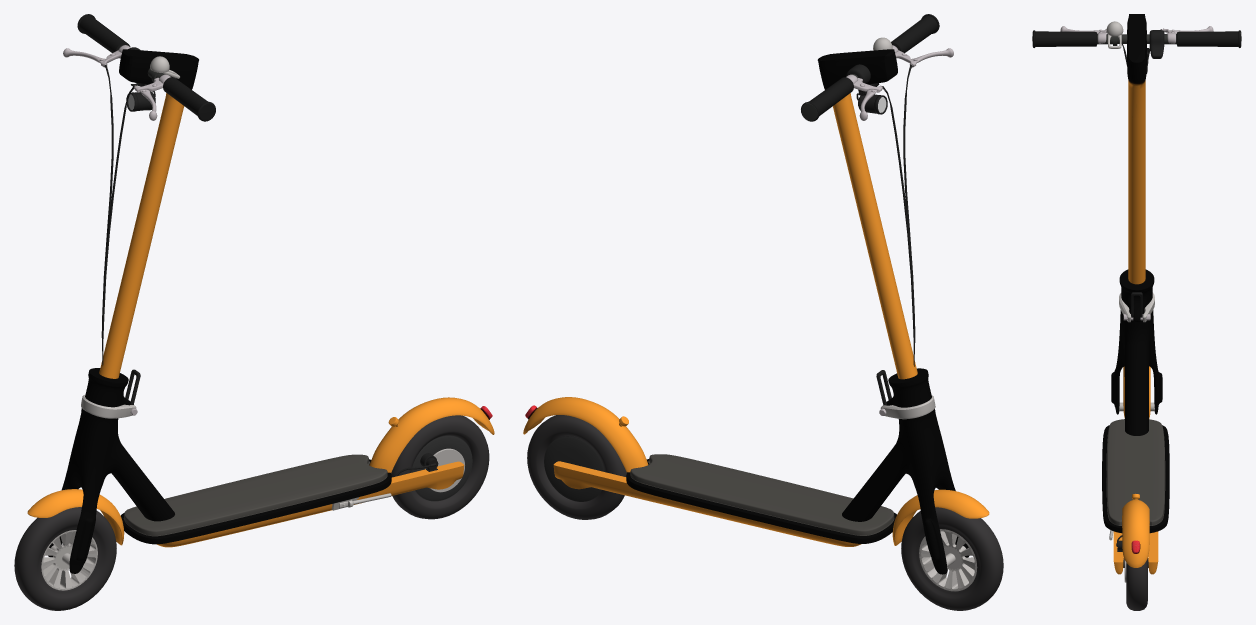
File: Scooter1.gltf
3 renders of one model, left to right at view 1: azimuth 30°, elevation 25°; view 2: azimuth 150°, elevation 25°; view 3: azimuth 270°, elevation 25°, orthographic. The views are drawn at different scales.
Parts seen in each view (by area): view 1: Foodstp.001, handlebar, handlebar.002, FR_Wheel, Fenders, RearWheel, Body, Foodstp, Breaks, handlebar.001, FR_Rim, RW_Rim (+2 smaller); view 2: Foodstp.001, handlebar, handlebar.002, FR_Wheel, Fenders, RearWheel, Body, Foodstp, FR_Rim, RW_Rim, Breaks, handlebar.001 (+2 smaller); view 3: Foodstp.001, handlebar, handlebar.002, handlebar.001, Fenders, Foodstp, clamp.001, RearWheel, Body, Breaks, Energy, clamp (+1 smaller).
Boxes of the visible parts, x1,y1,x2,y2 form: Foodstp.001: (123, 454, 387, 536); handlebar: (99, 49, 198, 378); handlebar.002: (48, 408, 174, 573); FR_Wheel: (14, 507, 116, 610); Fenders: (27, 397, 494, 545); RearWheel: (391, 415, 489, 519); Body: (157, 461, 464, 547); Foodstp: (121, 459, 391, 544); Breaks: (63, 45, 170, 365); handlebar.001: (77, 14, 215, 121); FR_Rim: (41, 530, 97, 590); RW_Rim: (411, 435, 472, 501); Foodstp.001: (630, 454, 894, 535); handlebar: (817, 49, 917, 379); handlebar.002: (842, 409, 969, 574); FR_Wheel: (901, 507, 1003, 610); Fenders: (523, 397, 989, 545); RearWheel: (527, 415, 626, 519); Body: (553, 461, 861, 546); Foodstp: (626, 459, 896, 543); FR_Rim: (919, 529, 977, 591); RW_Rim: (544, 436, 604, 501); Breaks: (846, 45, 953, 366); handlebar.001: (801, 14, 939, 121); Foodstp.001: (1106, 419, 1165, 525); handlebar: (1127, 14, 1146, 284); handlebar.002: (1111, 310, 1162, 435); handlebar.001: (1032, 30, 1241, 47); Fenders: (1122, 366, 1150, 567); Foodstp: (1102, 425, 1169, 533); clamp.001: (1119, 269, 1154, 322); RearWheel: (1126, 558, 1147, 610); Body: (1113, 531, 1158, 574); Breaks: (1060, 26, 1213, 64); Energy: (1149, 30, 1164, 58); clamp: (1119, 292, 1154, 322).
Bounding box in the file's own units: 1.47 × 1.59 × 0.6534.
1 material, 1 textured.
